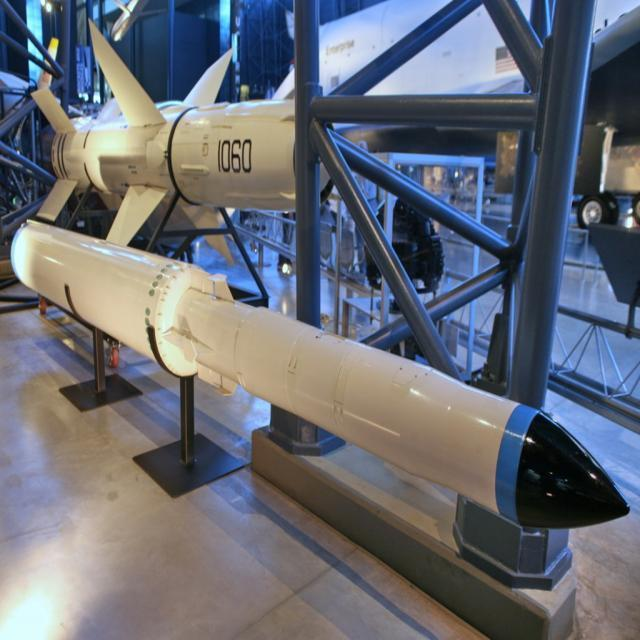Missile: (1, 192, 640, 600)
